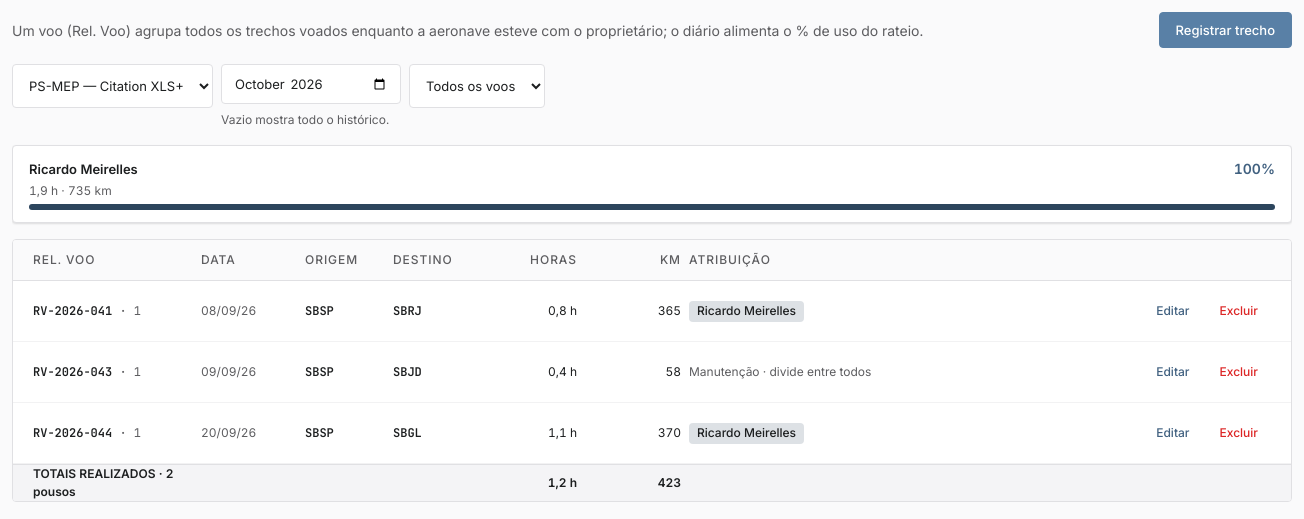
Test: PaginaDeVoos › filtrado por um voo só planejado, a grade o mostra e os totais do realizado ficam zerados
Expected: the cell "RV-2026-041 · 1" is shown, [33,303,193,320]
Select "RV-2026-044" in the 2nd dropdown named "Filtrar por voo" at (477, 86), box [409,64,545,108]
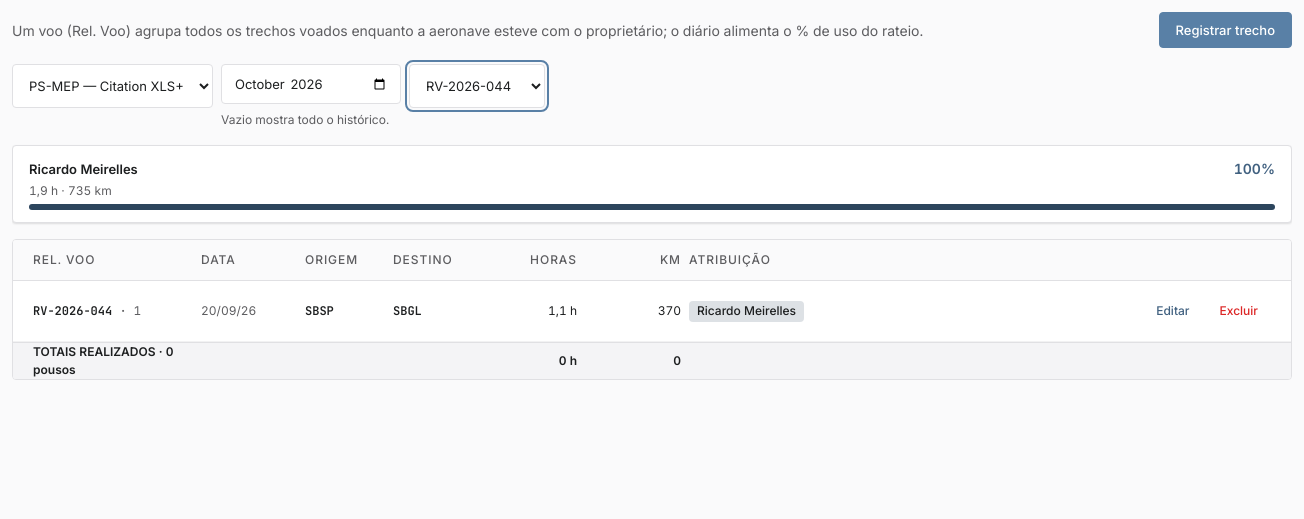
Expected: the text "1,1 h" is shown, [548,303,577,318]
Expected: the text "0 h" is shown, [559,353,577,368]
Expected: the text "0" is shown, [673,353,681,368]
